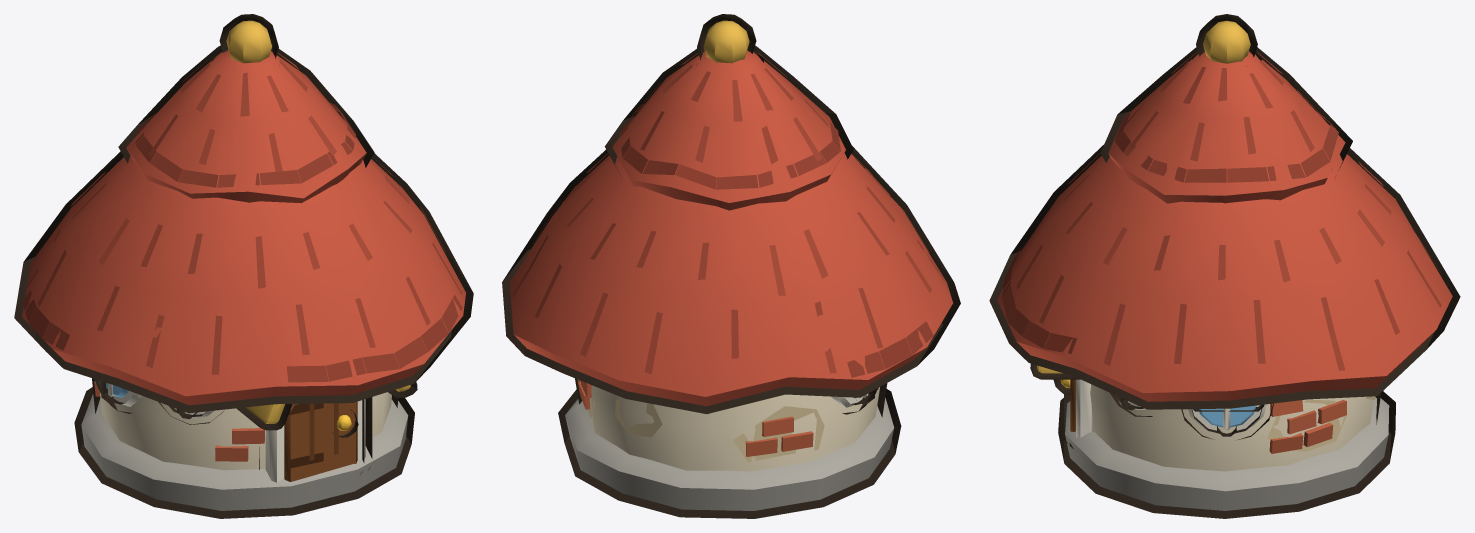
File: house-3.glb
3 renders of one model, left to right at view 1: azimuth 30°, elevation 25°; view 2: azimuth 150°, elevation 25°; view 3: azimuth 270°, elevation 25°, orthographic.
Visible parts, largest first — view 1: house-3; view 2: house-3; view 3: house-3.
Part boxes in pixels (x1,y1,x2,y2): house-3: [14, 14, 473, 518]; house-3: [502, 14, 960, 518]; house-3: [989, 14, 1460, 518].
Bounding box in the file's own units: 3.31 × 3.4 × 3.34.
